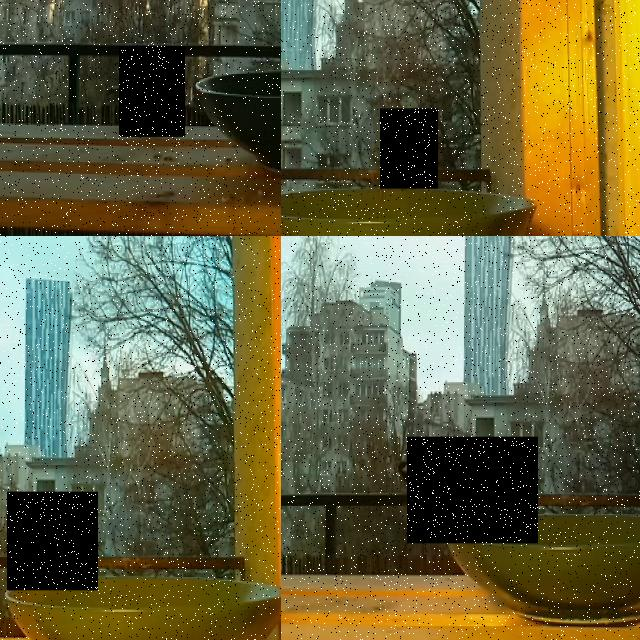Bogatka: (380, 108, 438, 188)
Modraszka: (7, 492, 98, 590), (119, 46, 185, 137)
Wrobel: (407, 437, 538, 543)
